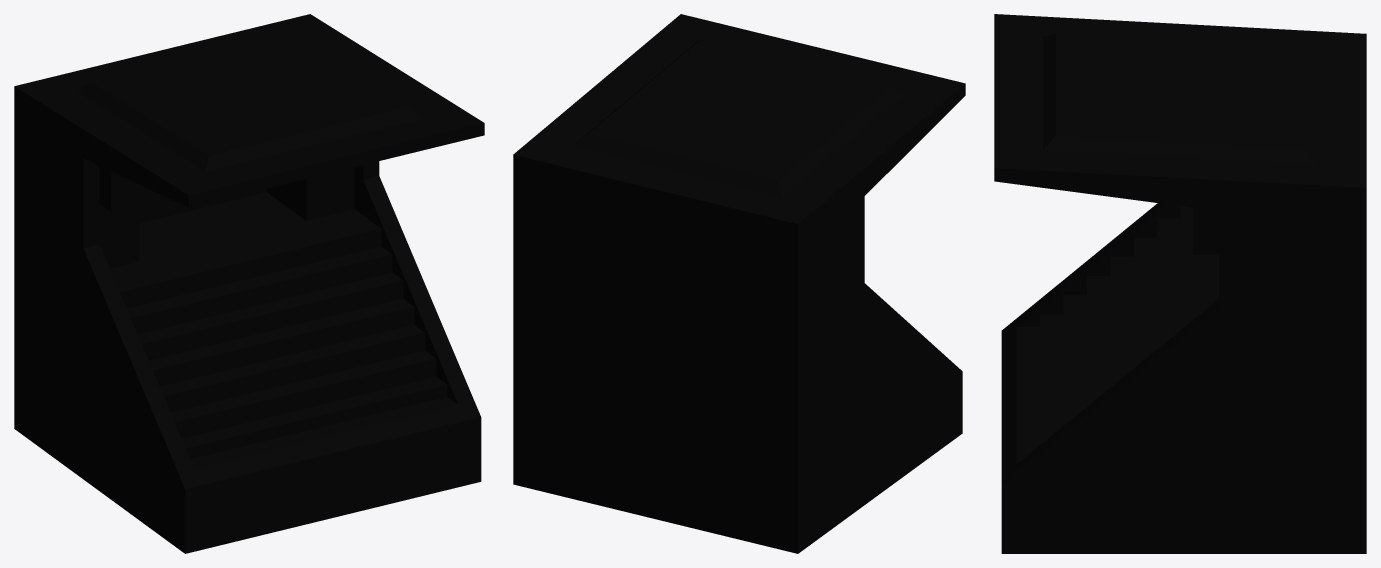
File: grandStandCovered.glb
3 renders of one model, left to right at view 1: azimuth 30°, elevation 25°; view 2: azimuth 150°, elevation 25°; view 3: azimuth 270°, elevation 25°, orthographic. The views are drawn at different scales.
Visible parts, largest first — view 1: Mesh grandStandCovered; view 2: Mesh grandStandCovered; view 3: Mesh grandStandCovered.
Part boxes in pixels (x1,y1,x2,y2): Mesh grandStandCovered: (14,14,484,553); Mesh grandStandCovered: (513,14,965,553); Mesh grandStandCovered: (994,14,1366,553).
Size of the model in its own units: 1 by 1.19 by 1.02.
1 material, 1 textured.
